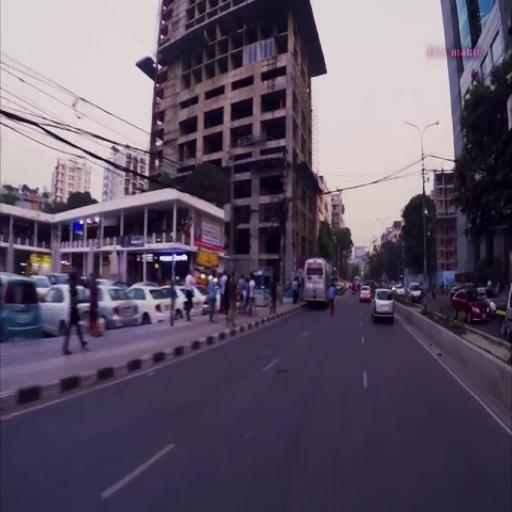bus: (304, 255, 335, 303)
car: (40, 284, 91, 330), (92, 284, 140, 322), (129, 283, 171, 321), (453, 288, 491, 321), (173, 284, 203, 313), (372, 288, 396, 321), (194, 284, 215, 313), (360, 284, 370, 301)
